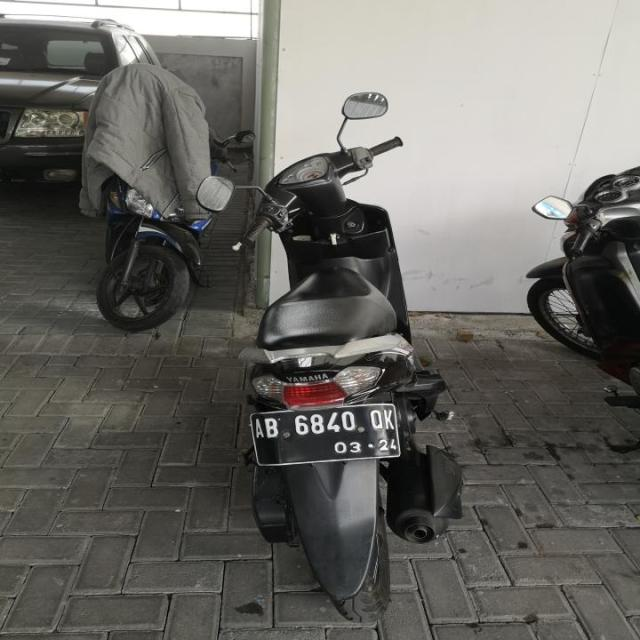License Plate: (248, 402, 404, 468)
